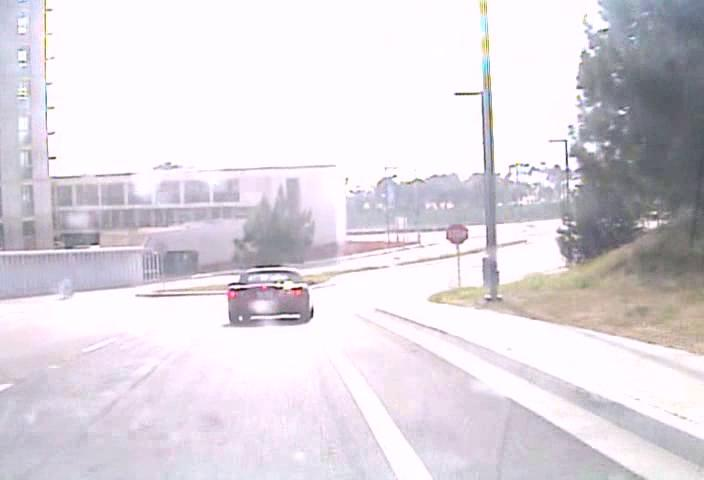stop: (445, 222, 468, 244)
